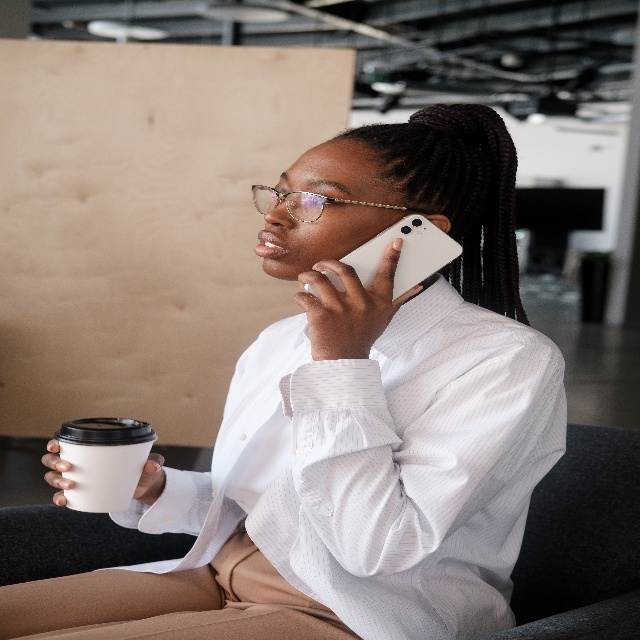Gafas: (250, 183, 435, 222)
Sin_guantes: (290, 237, 424, 361), (41, 437, 164, 504)
